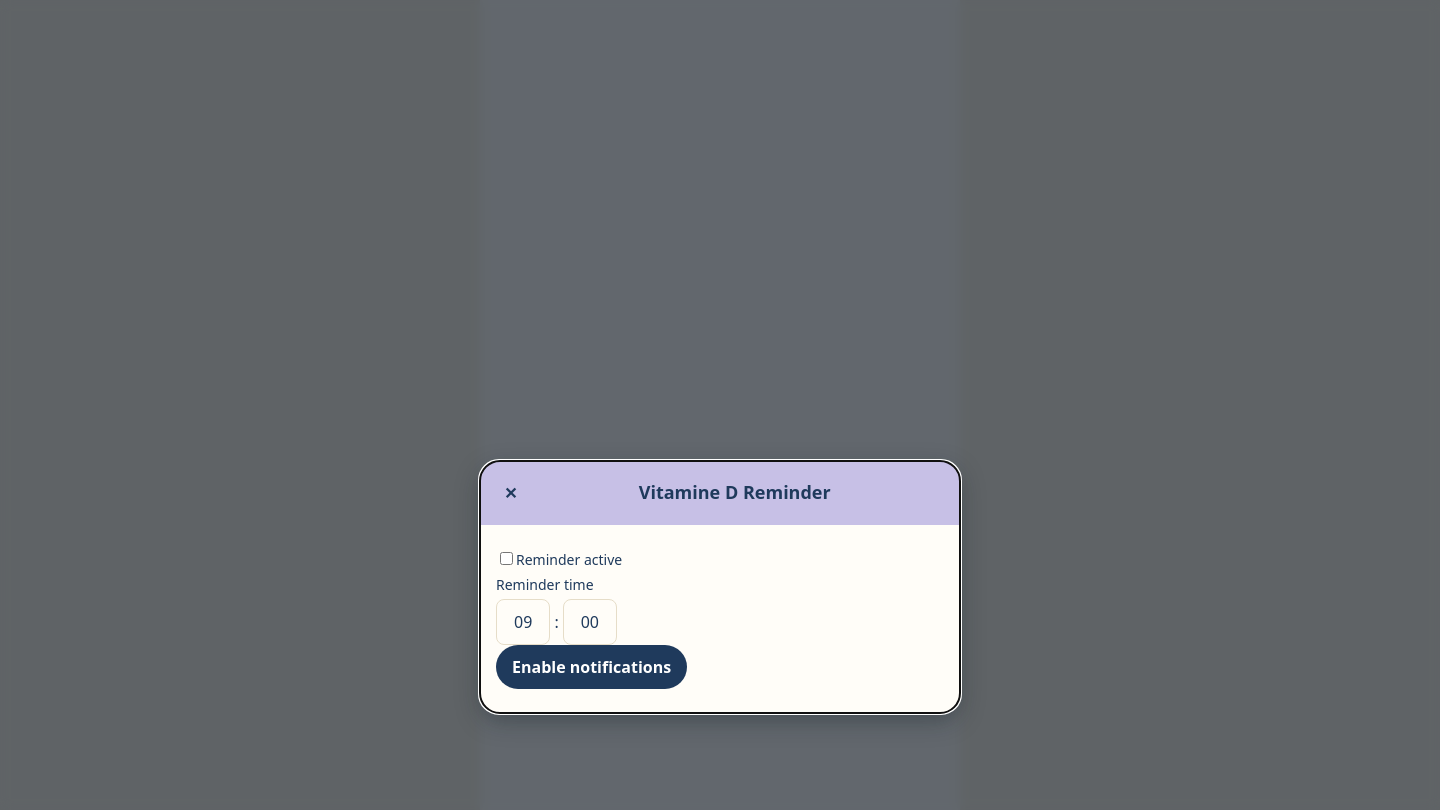
Test: ReminderSettingsModal › enables notifications on success
Step 1. Click the button "Enable notifications" → (592, 667), box [496,645,687,689]
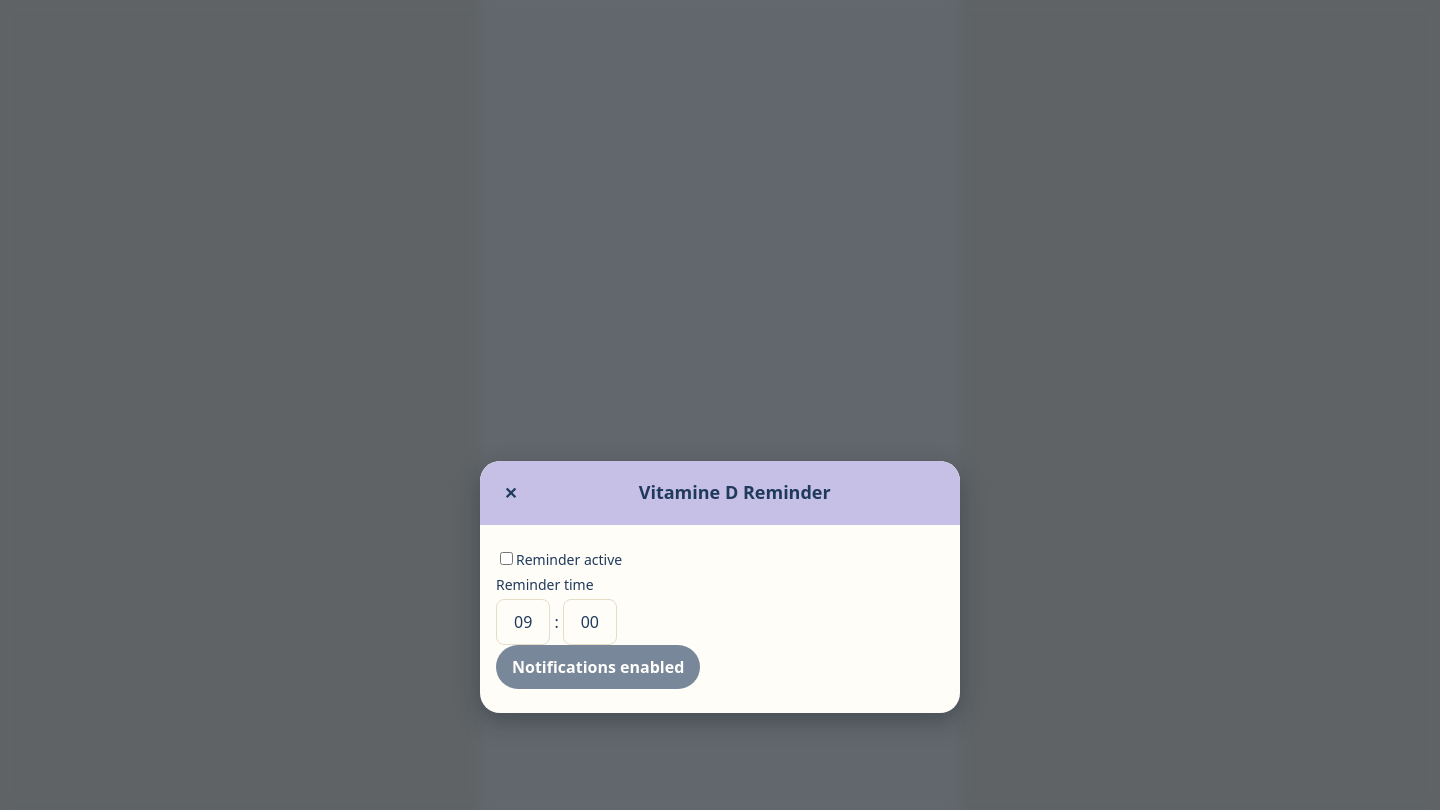
Expected: the button "Notifications enabled" is disabled, [496,645,700,689]
